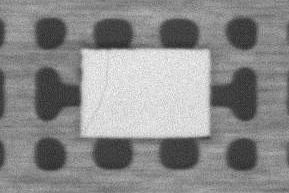DIE_CRACK: (86, 50, 109, 131)
